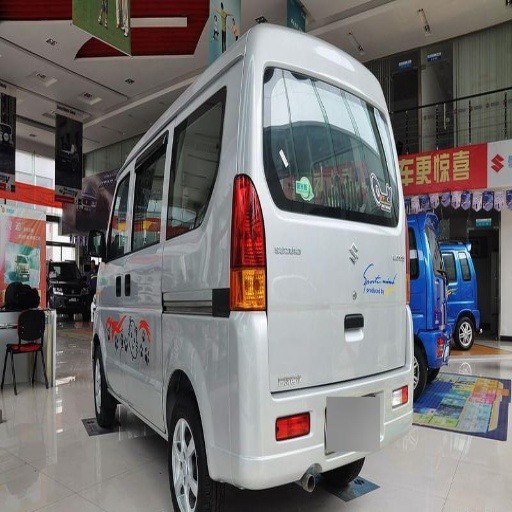back_left_light: (227, 225, 264, 309)
back_right_door: (272, 104, 376, 219)
trunk: (110, 225, 404, 459)
